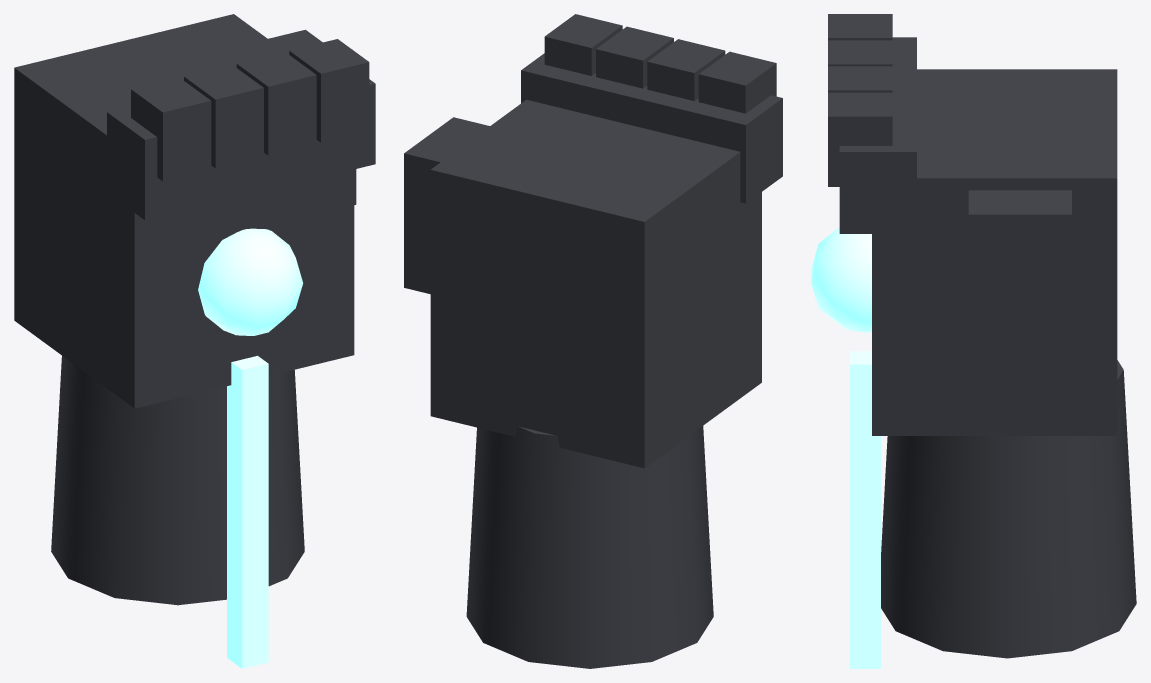
File: spell_gauntlet_left.glb
3 views of the same model, side by side, from view 1: azimuth 30°, elevation 25°; view 2: azimuth 150°, elevation 25°; view 3: azimuth 270°, elevation 25° (orthographic). The views are drawn at different scales.
Parts seen in each view (by area): view 1: SpellGauntlet_L_Shell, SpellGauntlet_L_Glow, SpellGauntlet_L_Trim; view 2: SpellGauntlet_L_Shell, SpellGauntlet_L_Trim; view 3: SpellGauntlet_L_Shell, SpellGauntlet_L_Glow, SpellGauntlet_L_Trim.
Boxes of the visible parts, box(x1,y1,x2,y2) form: SpellGauntlet_L_Shell: box(14, 14, 369, 605); SpellGauntlet_L_Glow: box(198, 228, 303, 668); SpellGauntlet_L_Trim: box(107, 79, 375, 220); SpellGauntlet_L_Shell: box(404, 14, 776, 668); SpellGauntlet_L_Trim: box(521, 53, 782, 203); SpellGauntlet_L_Shell: box(828, 14, 1136, 658); SpellGauntlet_L_Glow: box(811, 227, 880, 668); SpellGauntlet_L_Trim: box(839, 37, 916, 233).
Bounding box in the file's own units: 0.125 × 0.255 × 0.1259.
